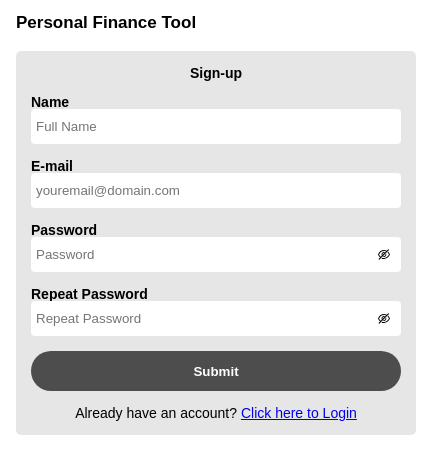
Test: Register › Register Form › should show an alert for empty name
This screenshot has width=433, height=468.
Type "email@example.com" into the field with placeholder "youremail@domain.com" at [216, 190], box [31,173,401,208]
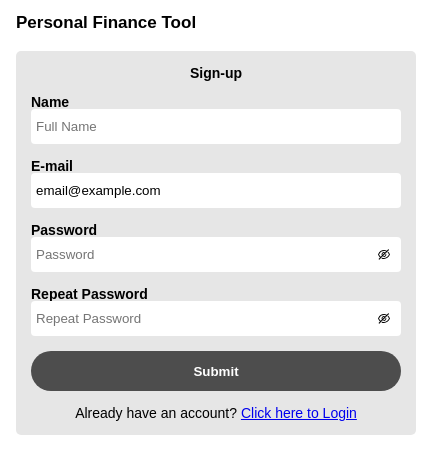
Type "password123" into the password field with placeholder "Password" at [216, 254], box [31,237,401,272]
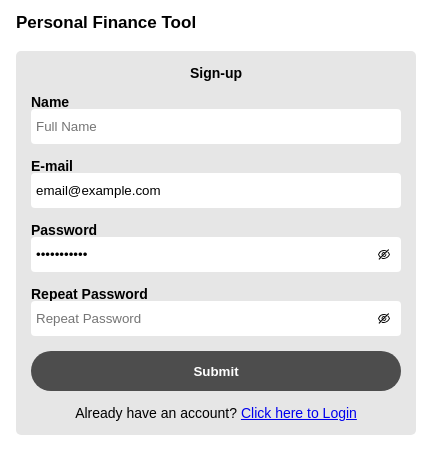
Click the button "Submit" at [216, 371], box [31,351,401,391]
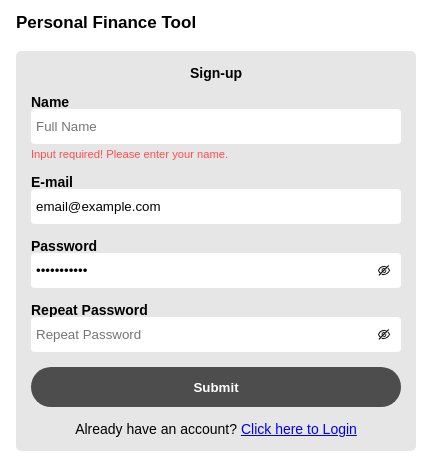
Check: the message reads "Input required! Please enter your name.", box [31,148,228,160]
